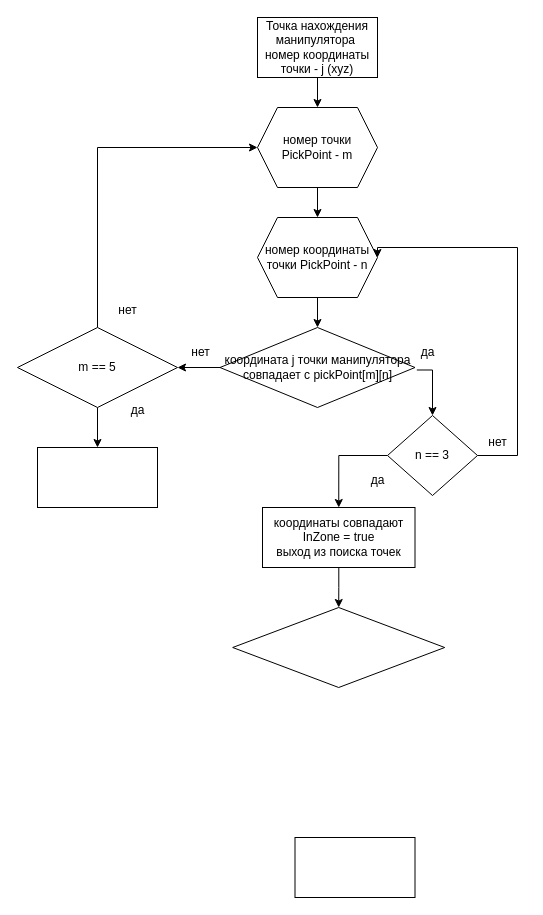
Image size: 543x915. Some labels were removed from this diagram. The centre of each missing label's shape, as x and y in pixels:
"gripper on/off" goes at [354,867].
"в зоне InZone == true & только появился в зоне" goes at [338,647].
"манипулятор находится не в зоне точки pickPoint wasInZone = false" goes at [97,477].
